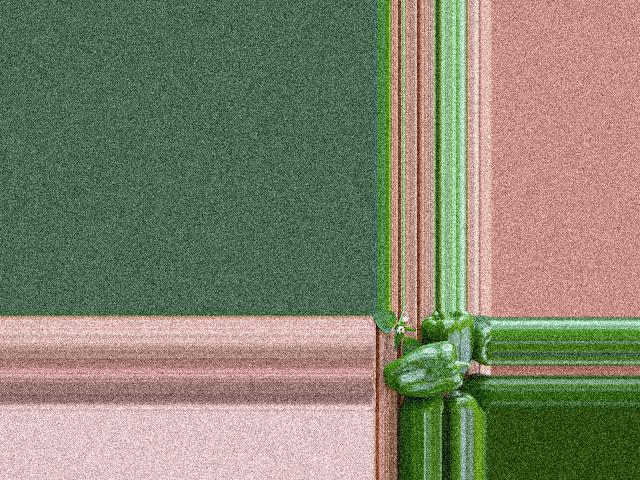bell_pepper: (450, 388, 487, 414)
